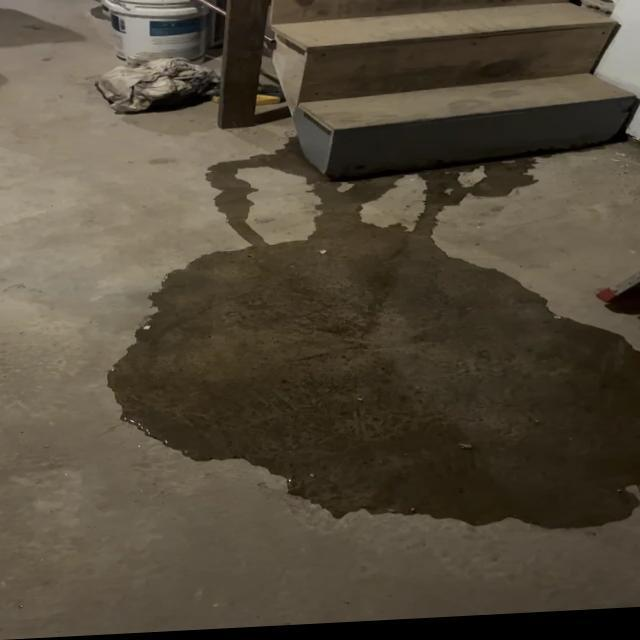water accumulation: (107, 131, 640, 527)
